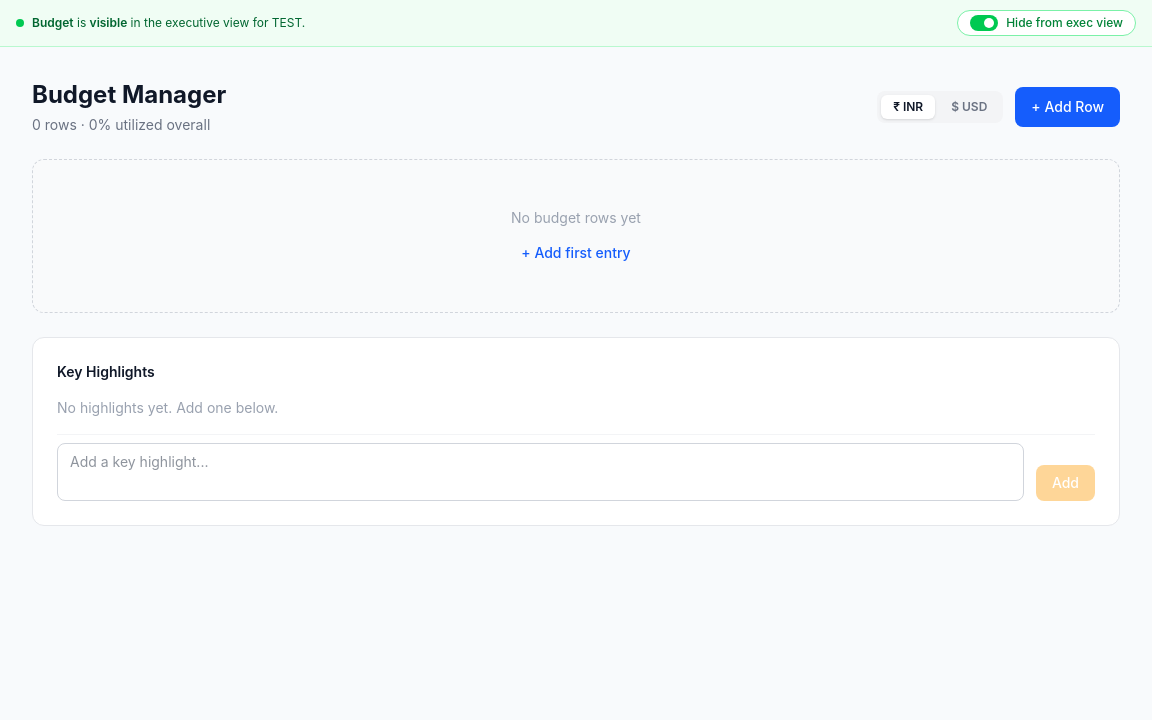
Test: BudgetEditor › T-34.08: typing in highlight textarea and clicking Add shows the highlight
Type "Budget within 5% of forecast" into the text box with placeholder "Add a key highlight...". click: (540, 472)
box: [57, 443, 1024, 501]
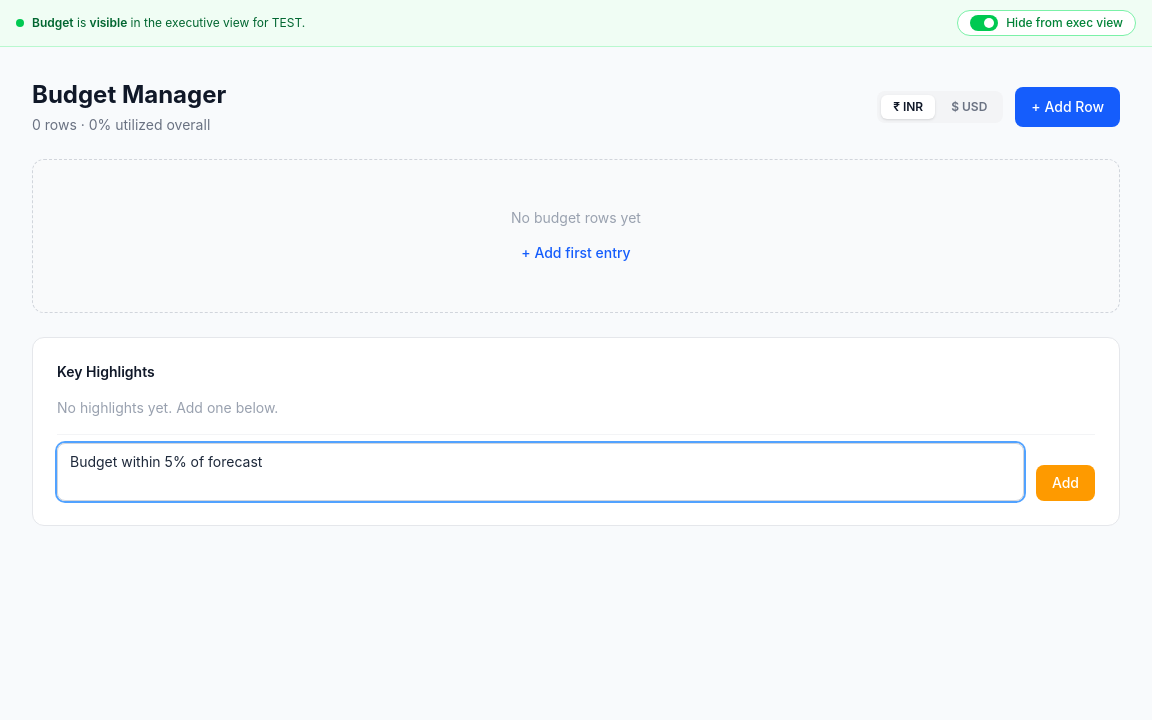
Click the button "Add". click: (1065, 483)
box: [1036, 465, 1095, 501]
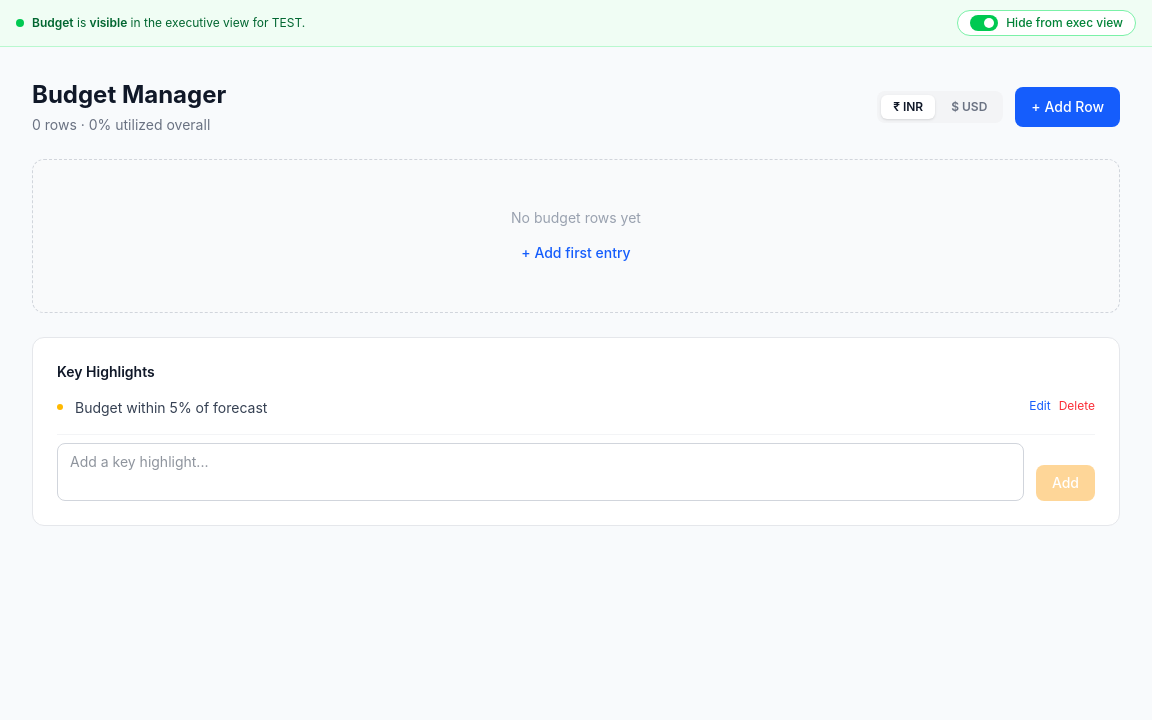
Result: the text "Budget within 5% of forecast" is shown at [75, 399, 267, 416]
